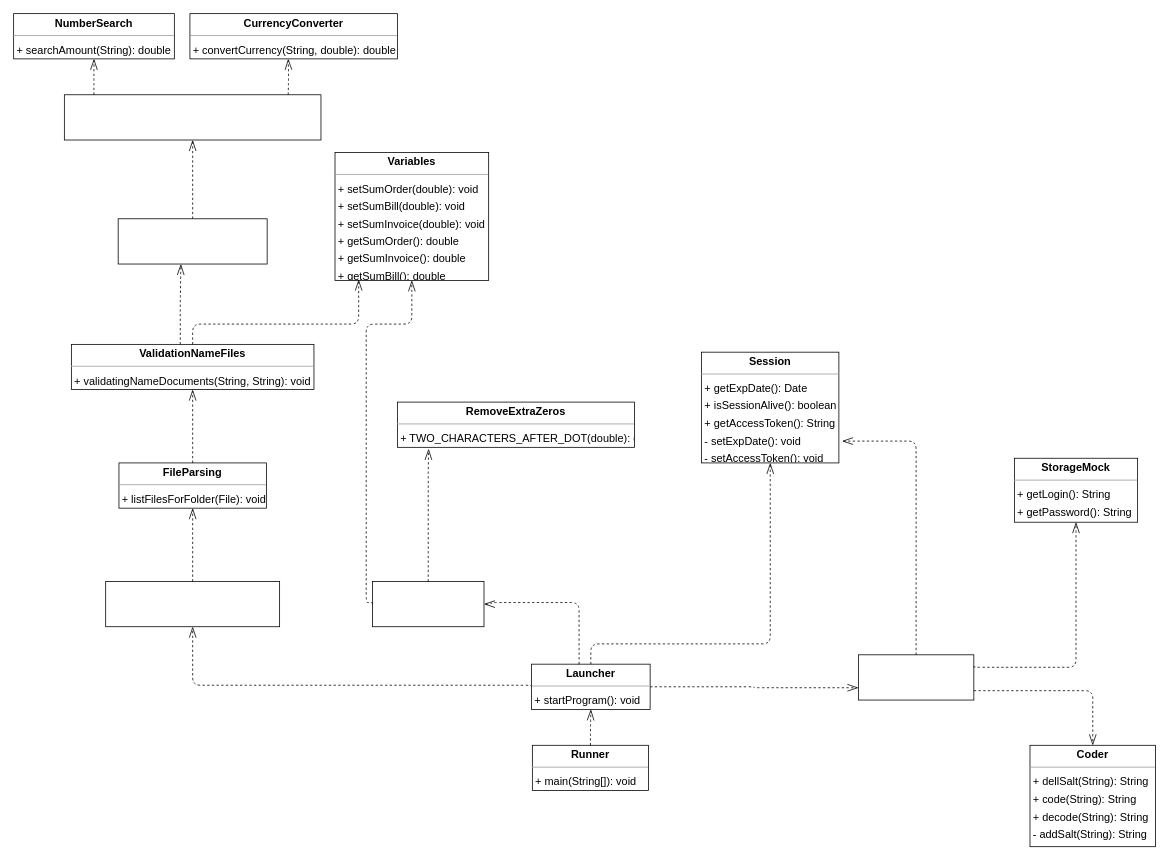
Image size: 1169x860. Some labels were removed from this diagram. The shapes that lost their labels are listed below. From the top down, each one's box as (x1, y1, x2, y2) in pixels, then its label:
(64, 94, 321, 140): ValidatingStringToNumber + checkingLineForAmountAndCurrency(String): double
(117, 218, 267, 264): ReadFiles + readingFiles(String): double
(105, 581, 280, 627): ValidationFolderExistence + checkPath(): void
(372, 581, 484, 627): WritFiles + writingFiles(): void
(858, 654, 974, 700): Authorisation + doLogin(): Session?
